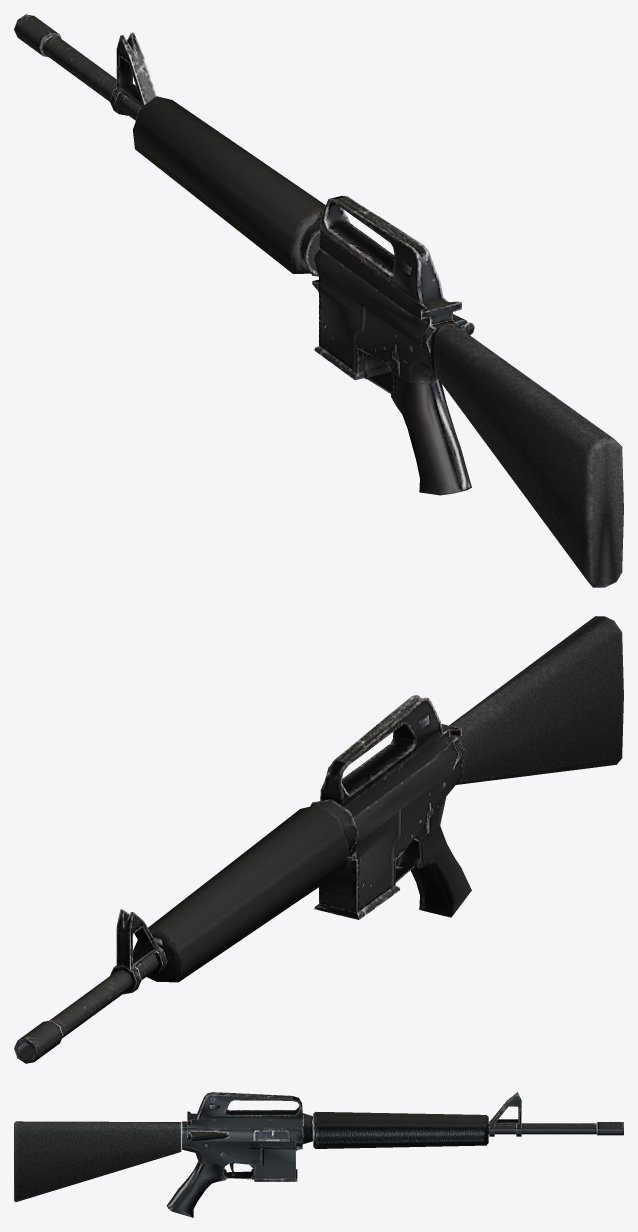
3 renders of one model, top to bottom at view 1: azimuth 30°, elevation 25°; view 2: azimuth 150°, elevation 25°; view 3: azimuth 270°, elevation 25°, orthographic. The views are drawn at different scales.
Visible parts, largest first — view 1: M16A1; view 2: M16A1; view 3: M16A1.
Boxes of the visible parts, left/top/right/bottom form: M16A1: left=14, top=14, right=623, bottom=587; M16A1: left=14, top=616, right=623, bottom=1063; M16A1: left=14, top=1092, right=623, bottom=1217.
Size of the model in its own units: 0.0385 by 0.6188 by 0.1347.
